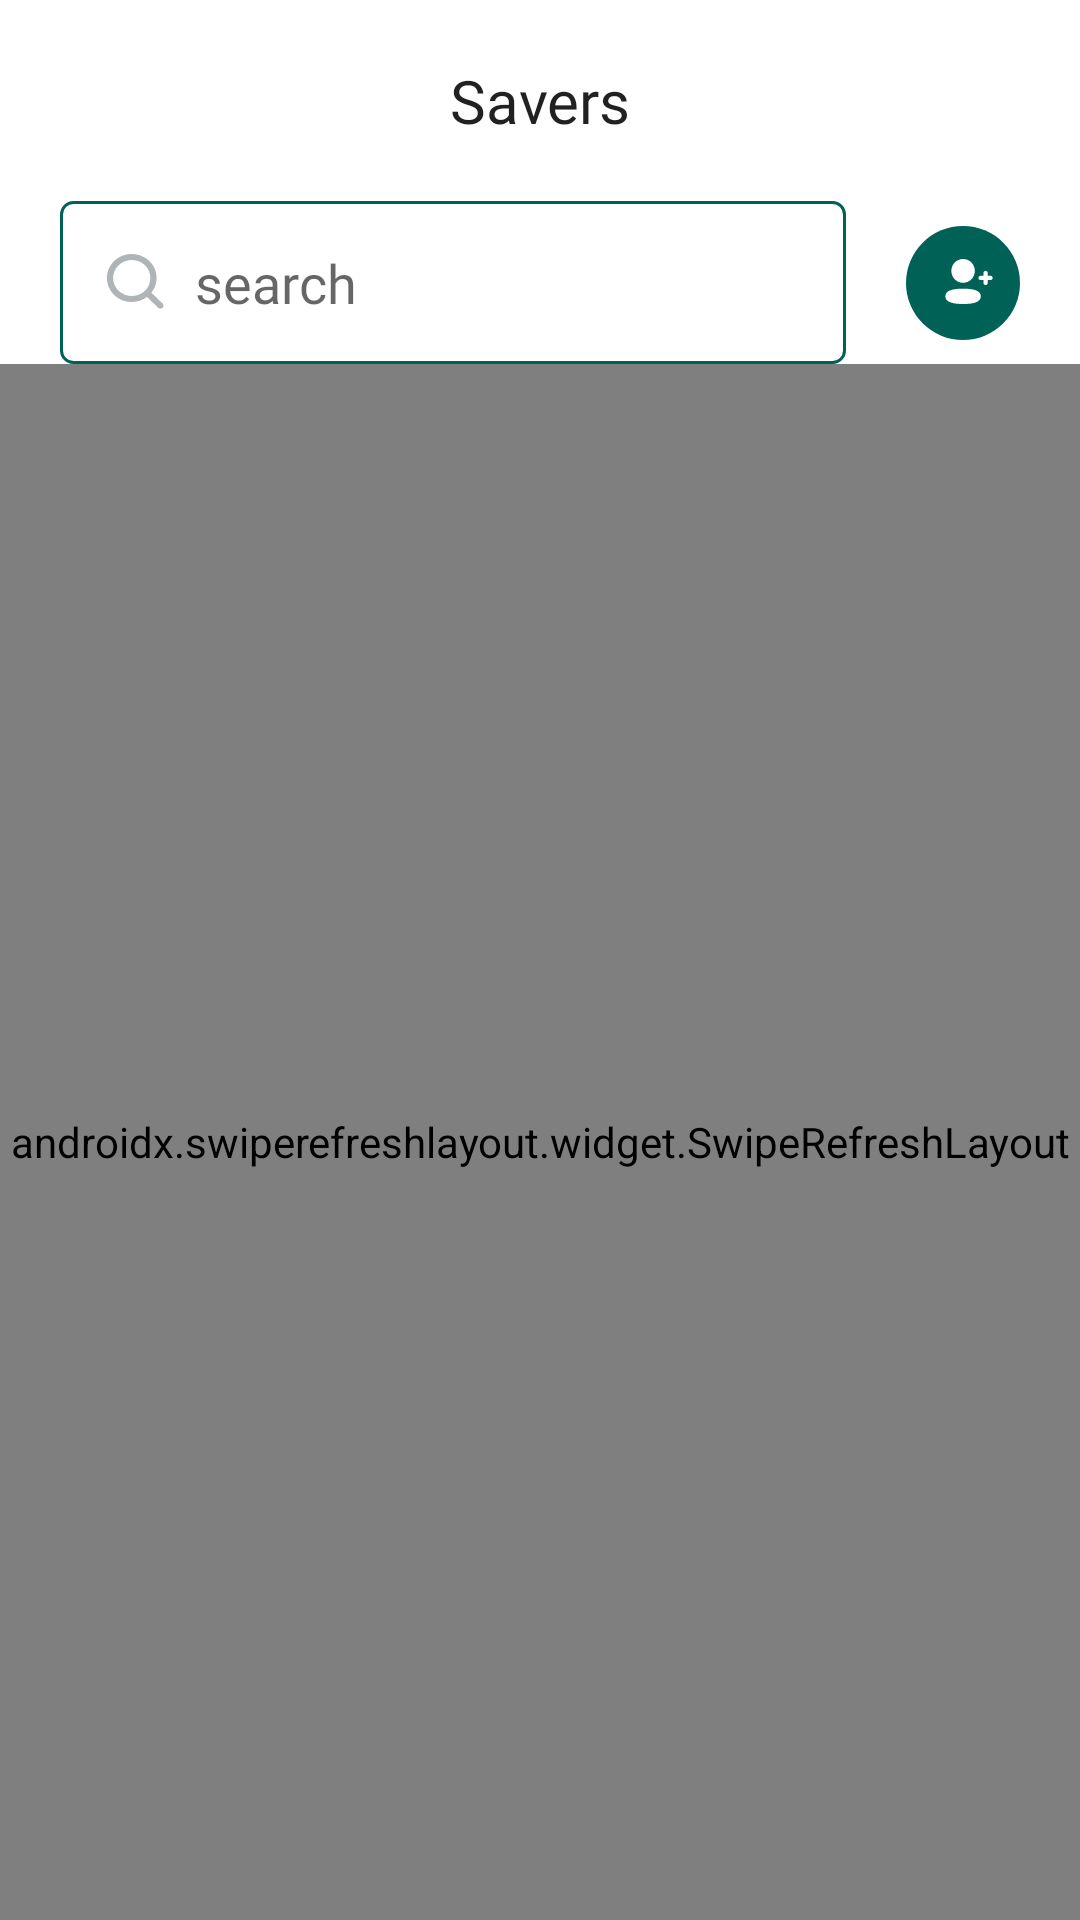

Icon click points for this 1080px×1920px phone screenshot, format (x,y):
add saver: (963,283)
